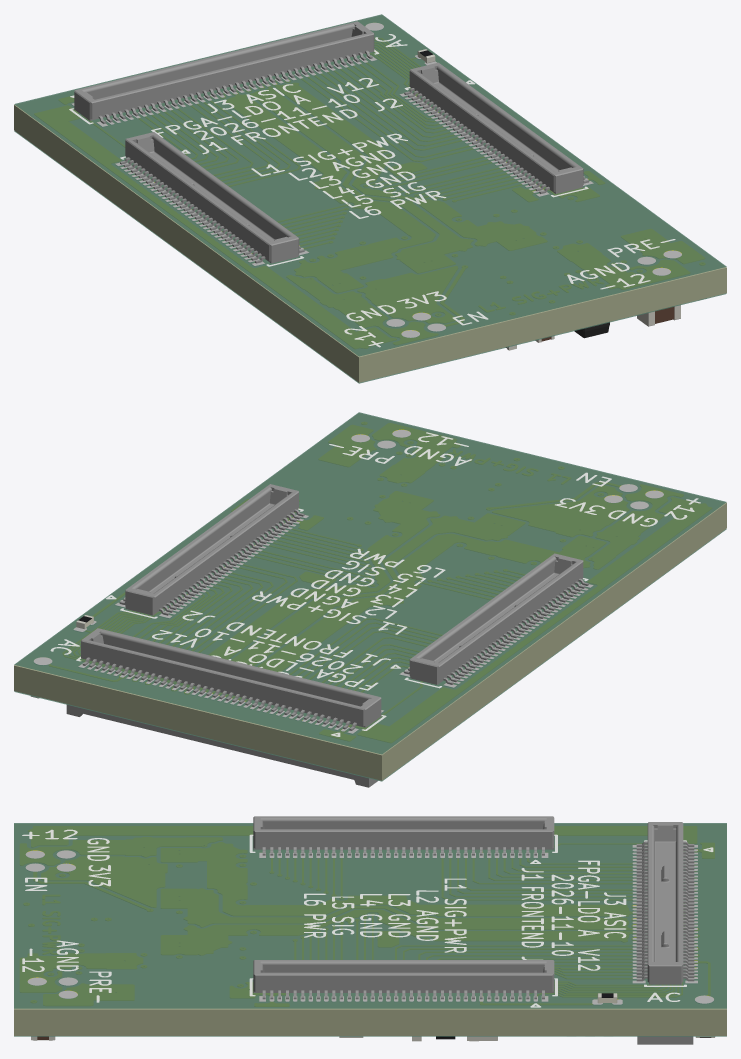
File: fpga-ldo-a-v12.glb
3 views of the same model, one above another, from view 1: azimuth 30°, elevation 25°; view 2: azimuth 150°, elevation 25°; view 3: azimuth 270°, elevation 25° (orthographic). The views are drawn at different scales.
Parts seen in each view (by area): view 1: =>[0:1:1:43], =>[0:1:1:45], =>[0:1:1:38], =>[0:1:1:5] (×2), =>[0:1:1:3], =>[0:1:1:41], =>[0:1:1:39], =>[0:1:1:44]; view 2: =>[0:1:1:43], =>[0:1:1:45], =>[0:1:1:38], =>[0:1:1:5] (×2), =>[0:1:1:3], =>[0:1:1:41], =>[0:1:1:39], =>[0:1:1:27], =>[0:1:1:44]; view 3: =>[0:1:1:43], =>[0:1:1:45], =>[0:1:1:38], =>[0:1:1:5] (×2), =>[0:1:1:3], =>[0:1:1:41], =>[0:1:1:39], =>[0:1:1:44], =>[0:1:1:27].
Boxes of the visible parts, x1,y1,x2,y2 form: =>[0:1:1:43]: [14, 14, 726, 356]; =>[0:1:1:45]: [14, 16, 726, 382]; =>[0:1:1:38]: [34, 38, 704, 348]; =>[0:1:1:5] (×2): [120, 62, 588, 263]; =>[0:1:1:3]: [74, 21, 374, 123]; =>[0:1:1:41]: [69, 34, 675, 347]; =>[0:1:1:39]: [71, 23, 681, 337]; =>[0:1:1:44]: [14, 131, 726, 383]; =>[0:1:1:43]: [14, 412, 726, 754]; =>[0:1:1:45]: [14, 414, 726, 780]; =>[0:1:1:38]: [49, 422, 711, 742]; =>[0:1:1:5] (×2): [119, 484, 588, 684]; =>[0:1:1:3]: [81, 628, 381, 730]; =>[0:1:1:41]: [50, 432, 700, 736]; =>[0:1:1:39]: [33, 429, 663, 733]; =>[0:1:1:27]: [66, 704, 378, 787]; =>[0:1:1:44]: [14, 529, 726, 781]; =>[0:1:1:43]: [14, 823, 726, 1008]; =>[0:1:1:45]: [14, 824, 726, 1035]; =>[0:1:1:38]: [20, 826, 714, 1006]; =>[0:1:1:5] (×2): [253, 816, 554, 999]; =>[0:1:1:3]: [636, 822, 694, 984]; =>[0:1:1:41]: [22, 829, 713, 1007]; =>[0:1:1:39]: [25, 845, 713, 1004]; =>[0:1:1:44]: [14, 1036, 726, 1036]; =>[0:1:1:27]: [637, 1036, 693, 1044].
Bounding box in the file's own units: 0.0226 × 0.0044 × 0.0368.
